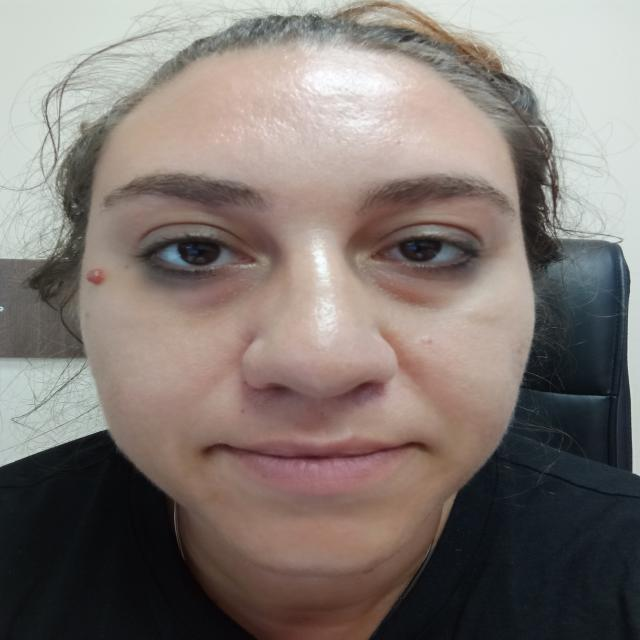Acne: (209, 487, 231, 503)
Englarged-Pores: (226, 100, 397, 156), (137, 336, 223, 389)
Eyebags: (358, 264, 500, 305), (132, 274, 254, 318)
